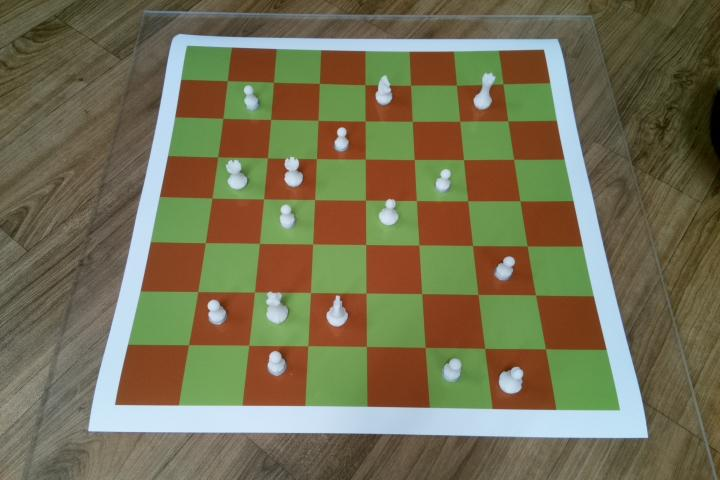chessboard-detect: (115, 45, 620, 409)
